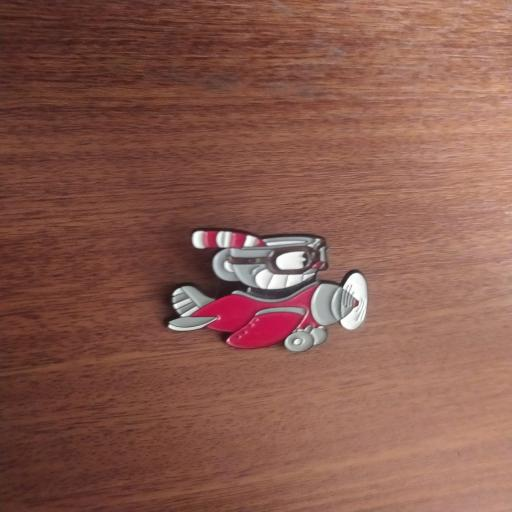Pin: (151, 223, 380, 360)
